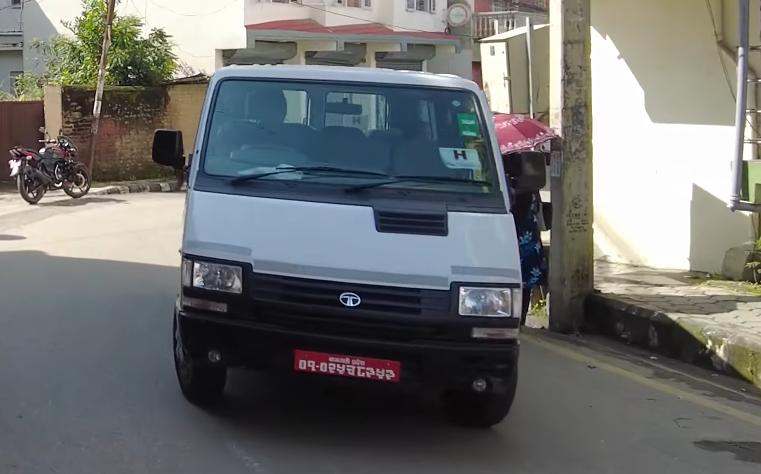bike: (5, 129, 93, 208)
van: (151, 54, 552, 431)
